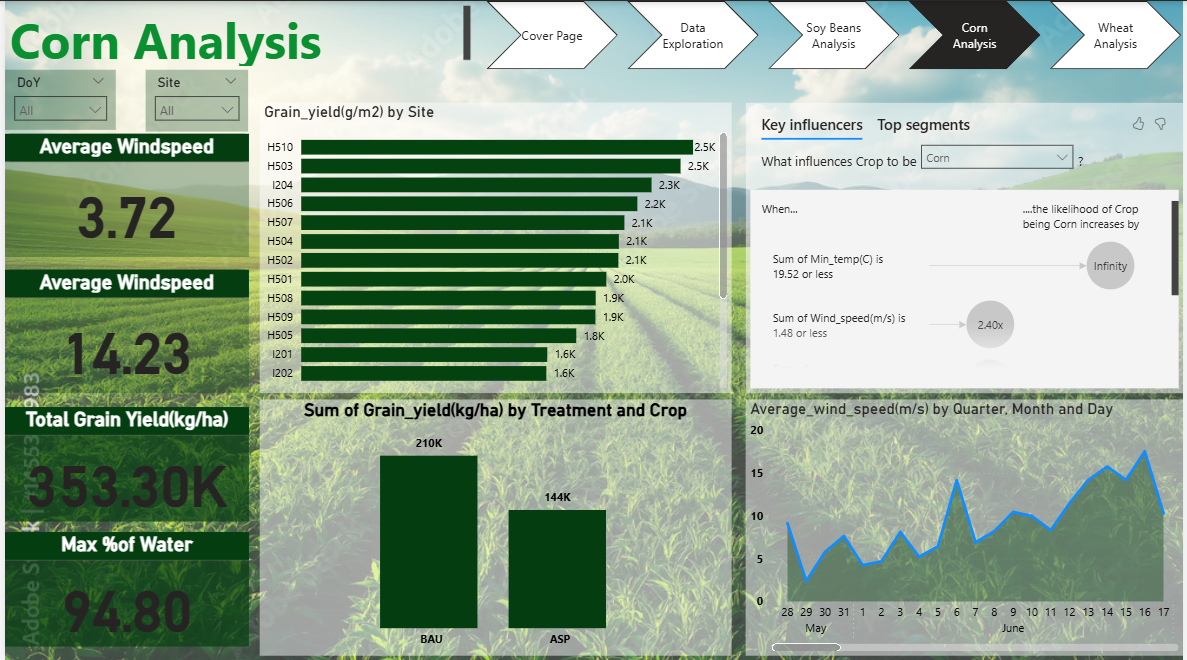

Layout of this report page (visuals, bound fields, positions):
{"tool":"powerbi","page":{"name":"Corn Analysis","canvas":[1280,720],"ordinal":3},"visuals":[{"type":"card","title":"Average Windspeed","fields":{"Values":["Avg(h5-i2_2016-2021_daily-weather.Wind_speed(m/s))"]},"box":[0,144.3,264.8,134.1],"z":0},{"type":"card","title":"Total Grain Yield(kg/ha)","fields":{"Values":["Sum(h5_i2_2019-2022_hand_harvest.Grain_yield(kg/ha))"]},"box":[0,441.3,264.8,123.9],"z":1000},{"type":"card","title":"Max %of Water","fields":{"Values":["Max(h5_i2_2019-2022_hand_harvest.Percent_H2O)"]},"box":[0,577,264.8,123.9],"z":2000},{"type":"card","title":"Average Windspeed","fields":{"Values":["Avg(h5-i2_2016-2021_daily-weather.Solar_Radiation(MJ/m2/d))"]},"box":[0,291.9,264.8,134.1],"z":3000},{"type":"lineStackedColumnComboChart","fields":{"Category":["h5_i2_2019-2022_hand_harvest.Treatment"],"Y":["Sum(h5_i2_2019-2022_hand_harvest.Grain_yield(kg/ha))"],"Series":["h5_i2_2019-2022_hand_harvest.Crop"]},"box":[276.6,432.8,512.5,278.3],"z":4000},{"type":"keyDriversVisual","fields":{"Target":["h5-i2_2016-2021_daily-weather.Crop"],"ExplainBy":["Sum(h5-i2_2016-2021_daily-weather.Rain_(mm/d))","Sum(h5-i2_2016-2021_daily-weather.Wind_speed(m/s))","Sum(h5-i2_2016-2021_daily-weather.Solar_Radiation(MJ/m2/d))","Sum(h5-i2_2016-2021_daily-weather.Min_temp(C))"]},"box":[804.5,110.3,475.2,315.7],"z":5000},{"type":"lineChart","title":"Average_wind_speed(m/s) by Quarter, Month and Day","fields":{"Category":["MortonDailyAVG.date.Variation.Date Hierarchy.Month","MortonDailyAVG.date.Variation.Date Hierarchy.Day"],"Y":["Sum(MortonDailyAVG.Average_wind_speed(m/s))"]},"box":[804.5,432.8,475.2,278.3],"z":6000},{"type":"textbox","box":[0,0,510.8,74.7],"z":7000},{"type":"slicer","fields":{"Values":["h5_i2_2019-2022_hand_harvest.DoY"]},"box":[0,74.3,120.4,65.4],"z":8000},{"type":"slicer","fields":{"Values":["Mass Flux values 2019_2022 updated.Site"]},"box":[153.1,74.3,111.5,66.9],"z":9000},{"type":"clusteredBarChart","title":"Grain_yield(g/m2) by Site","fields":{"Category":["h5_i2_2019-2022_hand_harvest.Site"],"Y":["Sum(h5_i2_2019-2022_hand_harvest.Grain_yield(g/m2))"]},"box":[276.6,110.3,512.5,315.7],"z":10000},{"type":"pageNavigator","box":[522.7,0,756.9,74.7],"z":11000}]}

Visuals, with their boxes in screenshot pixels (x1, y1, x2, y2), scaled from the page's 1280x720 canvas onto the 1187x660 screenshot:
"Average Windspeed" card: l=0, t=132, r=246, b=255
"Total Grain Yield(kg/ha)" card: l=0, t=405, r=246, b=518
"Max %of Water" card: l=0, t=529, r=246, b=642
"Average Windspeed" card: l=0, t=268, r=246, b=390
lineStackedColumnComboChart - h5_i2_2019-2022_hand_harvest.Treatment x Sum(h5_i2_2019-2022_hand_harvest.Grain_yield(kg/ha)): l=257, t=397, r=732, b=652
keyDriversVisual - h5-i2_2016-2021_daily-weather.Crop x Sum(h5-i2_2016-2021_daily-weather.Rain_(mm/d)): l=746, t=101, r=1186, b=390
"Average_wind_speed(m/s) by Quarter, Month and Day" lineChart: l=746, t=397, r=1186, b=652
textbox: l=0, t=0, r=474, b=68
slicer - h5_i2_2019-2022_hand_harvest.DoY: l=0, t=68, r=112, b=128
slicer - Mass Flux values 2019_2022 updated.Site: l=142, t=68, r=245, b=129
"Grain_yield(g/m2) by Site" clusteredBarChart: l=257, t=101, r=732, b=390
pageNavigator: l=485, t=0, r=1186, b=68
